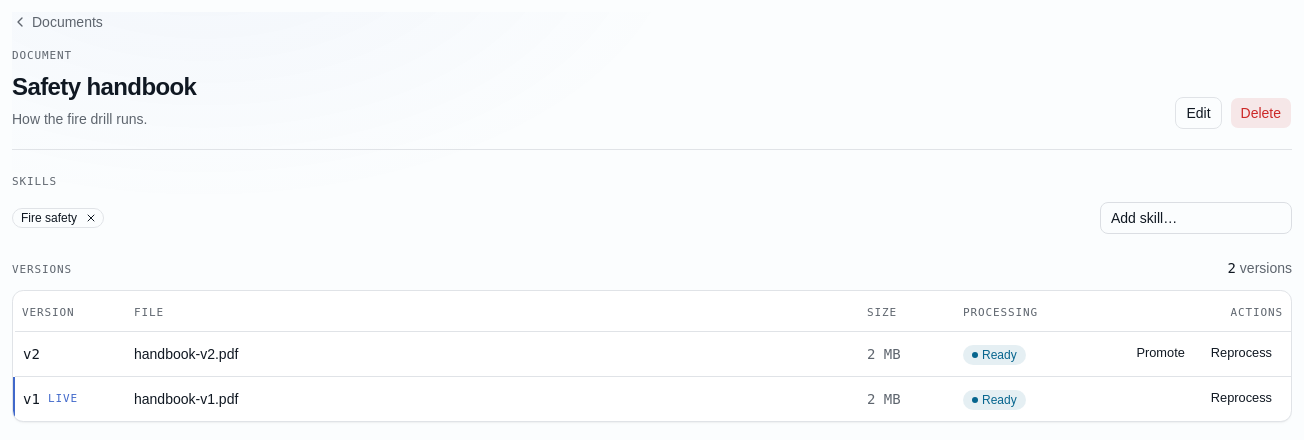
Scenario: DocumentDetailPage › detaches a skill
Expected: the heading "Safety handbook" is shown, 12,70 -> 196,102
Click the button named "Remove Fire safety": (91, 218) 83,210 -> 99,226
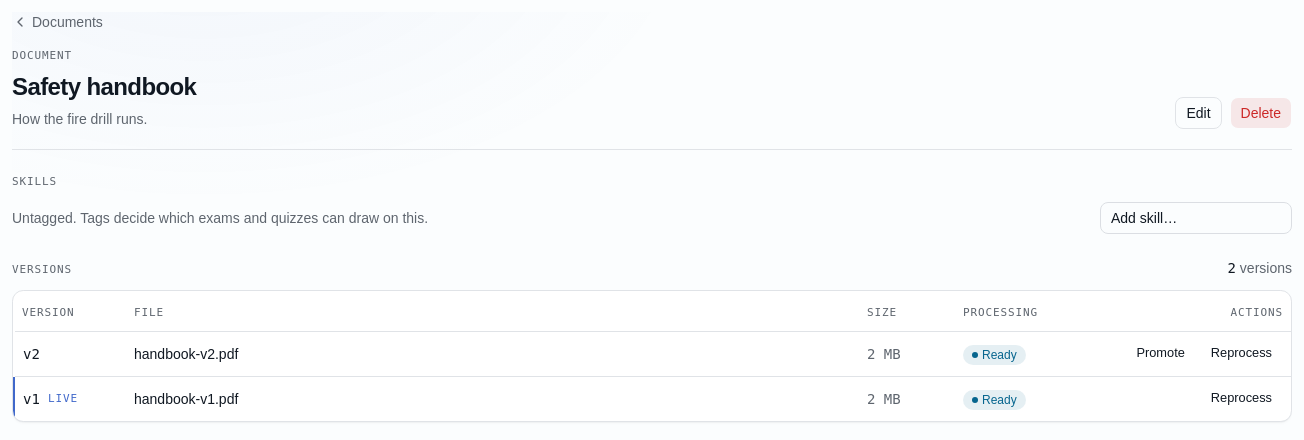
Expected: the text "Untagged" is shown, 12,210 -> 428,226
